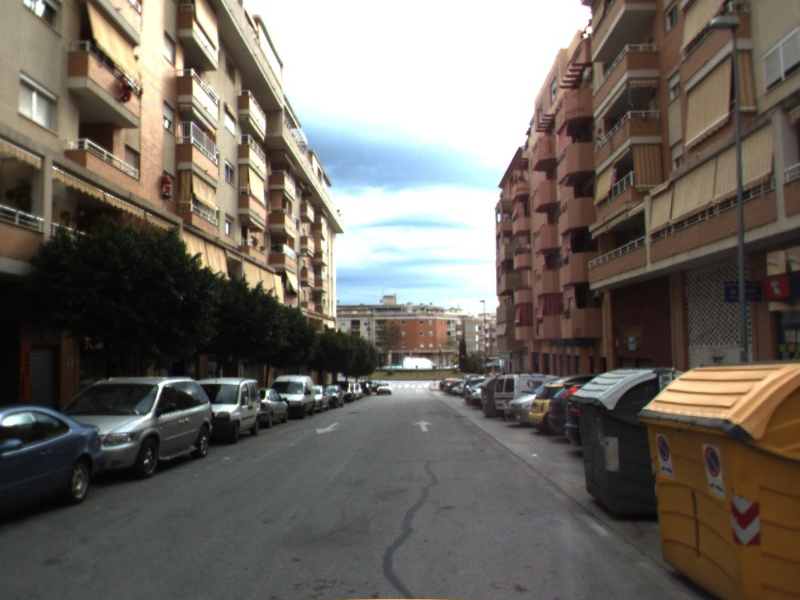STRAIGHT: (412, 418, 434, 433)
